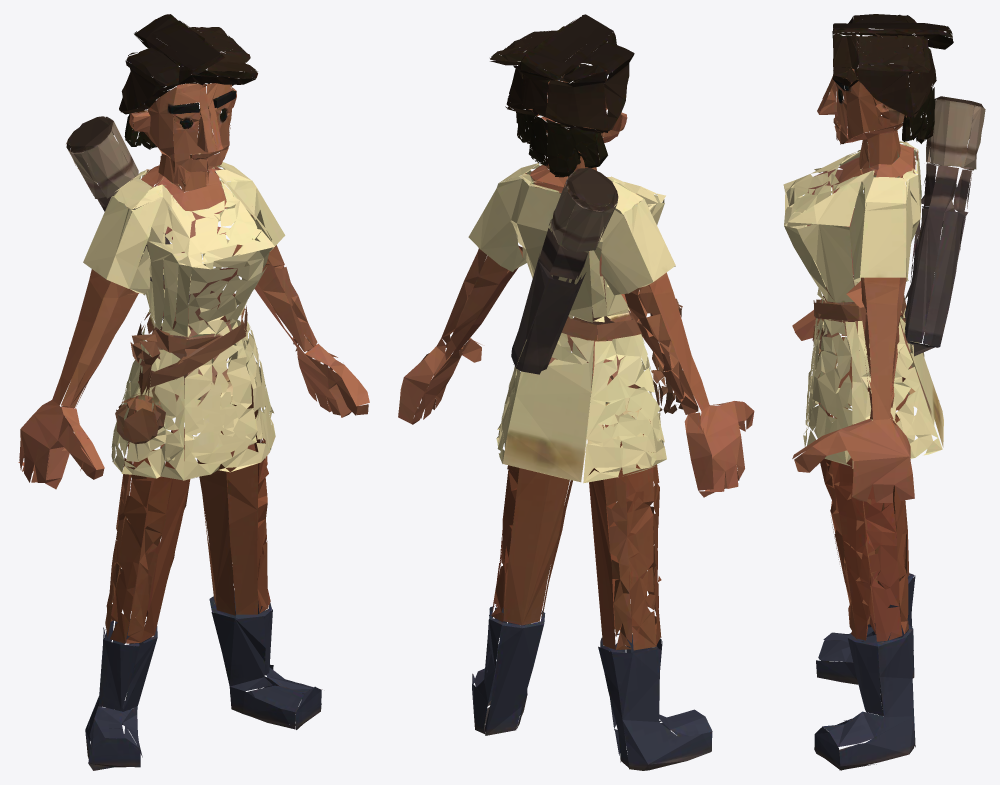
Rendered from habitant.glb.
3 views of the same model, side by side, from view 1: azimuth 30°, elevation 25°; view 2: azimuth 150°, elevation 25°; view 3: azimuth 270°, elevation 25° (orthographic). The views are drawn at different scales.
Parts seen in each view (by area): view 1: world; view 2: world; view 3: world.
Part boxes in pixels (<box>): world: <box>18,14,369,770</box>; world: <box>398,14,754,770</box>; world: <box>783,14,985,770</box>.
Size of the model in its own units: 0.4812 by 1.01 by 0.2649.
1 material, 1 textured.
